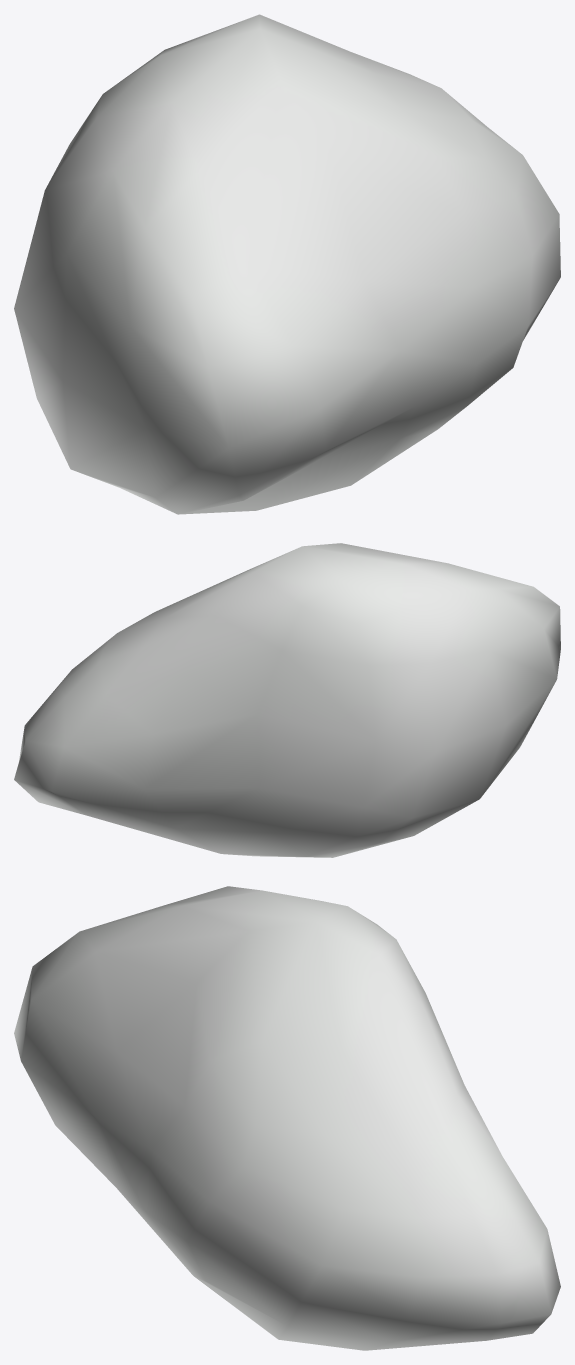
Rendered from Cloud 3.fbx.
3 renders of one model, top to bottom at view 1: azimuth 30°, elevation 25°; view 2: azimuth 150°, elevation 25°; view 3: azimuth 270°, elevation 25°, orthographic. The views are drawn at different scales.
Parts seen in each view (by area): view 1: Group56277; view 2: Group56277; view 3: Group56277.
Part boxes in pixels (bbox=[...]): Group56277: bbox=[14, 14, 560, 514]; Group56277: bbox=[14, 543, 560, 857]; Group56277: bbox=[14, 886, 560, 1350].
Size of the model in its own units: 1.44 by 1.13 by 1.42.
1 material, 1 textured.
